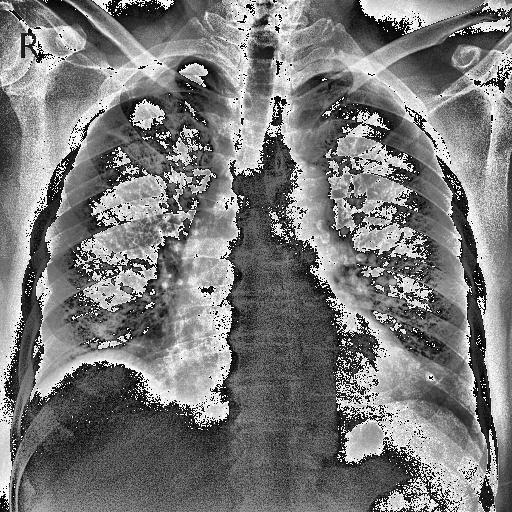0- Aortic enlargement: (260, 160, 338, 254), (262, 162, 334, 236), (272, 166, 335, 250)
11- Pleural thickening: (320, 72, 410, 118), (112, 54, 174, 101)
13- Pulmonary fibrosis: (88, 96, 202, 202), (125, 130, 171, 168), (104, 126, 126, 144)
3- Cardiomegaly: (162, 316, 436, 410), (149, 320, 423, 414), (172, 306, 422, 406)
5- ILD: (101, 126, 226, 360), (315, 144, 431, 369)
6- Infiltration: (108, 100, 184, 176)
7- Lung Opacity: (125, 130, 171, 168)
